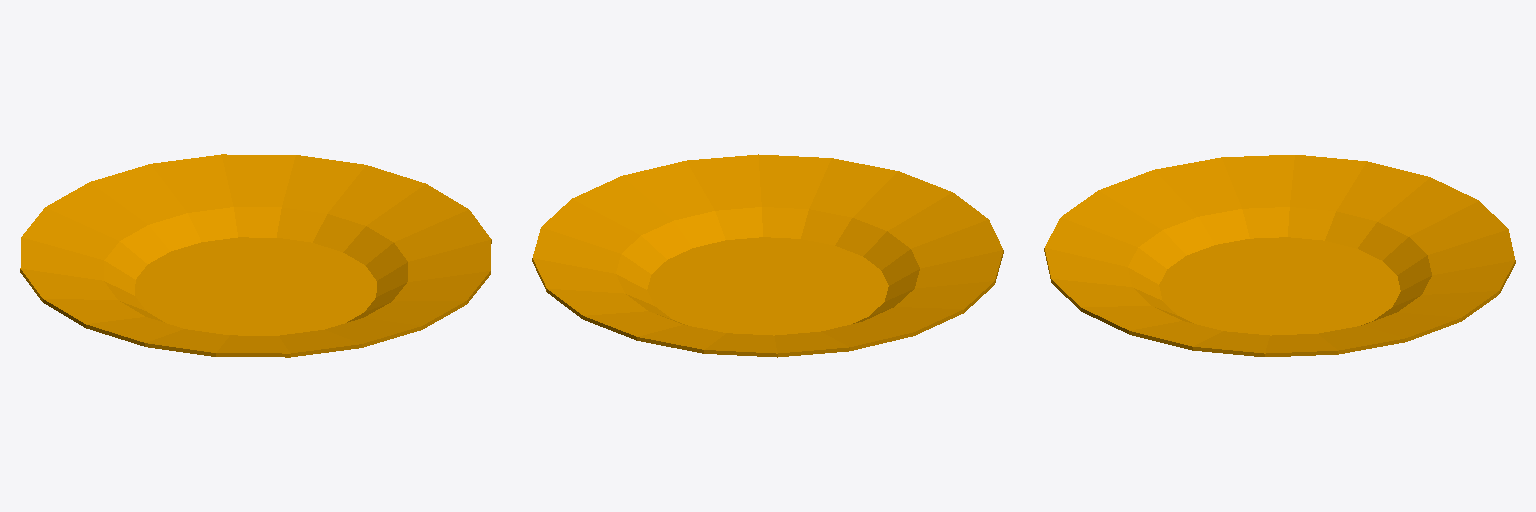
robot.urdf — plate:
<robot name="plate">
  <link name="plate">
    <collision>
      <geometry>
        <mesh filename="plate.stl" />
      </geometry>
    </collision>
    <visual>
      <geometry>
        <mesh filename="plate.stl" />
      </geometry>
    </visual>
  </link>
</robot>

--- Render facts (derived) ---
3 views of the same robot in one strip: view 1: azimuth 30°, elevation 25°; view 2: azimuth 150°, elevation 25°; view 3: azimuth 270°, elevation 25° (orthographic).
Robot: plate — 1 links, 0 joints (none); root link plate; default pose: all joints at 0.
Links seen in each view (by area): view 1: plate; view 2: plate; view 3: plate.
Link boxes in pixels (x1=…): plate: x1=20, y1=154, x2=491, y2=357; plate: x1=532, y1=154, x2=1003, y2=357; plate: x1=1044, y1=155, x2=1515, y2=356.
Bounding box of the posed robot: 0.2715 × 0.2715 × 0.0239 m (x, y, z).
1 mesh visuals loaded from 1 distinct referenced files (1 binary STL).